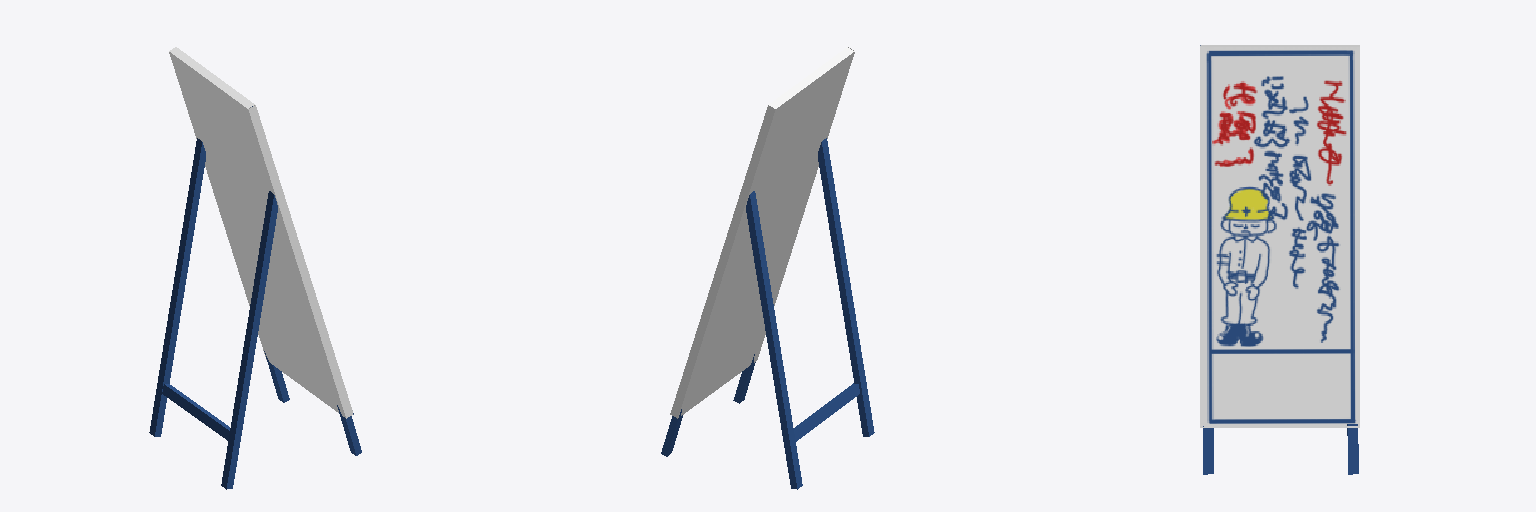
The picture shows the model from 3 angles: view 1: azimuth 30°, elevation 25°; view 2: azimuth 150°, elevation 25°; view 3: azimuth 270°, elevation 25°; orthographic projection.
Visible parts, largest first — view 1: board; view 2: board; view 3: board.
Part boxes in pixels (left/top/right/bottom): board: left=149, top=47, right=361, bottom=489; board: left=661, top=47, right=874, bottom=489; board: left=1200, top=45, right=1359, bottom=474.
Size of the model in its own units: 1.98 by 5.27 by 2.
1 materials, 1 textured.